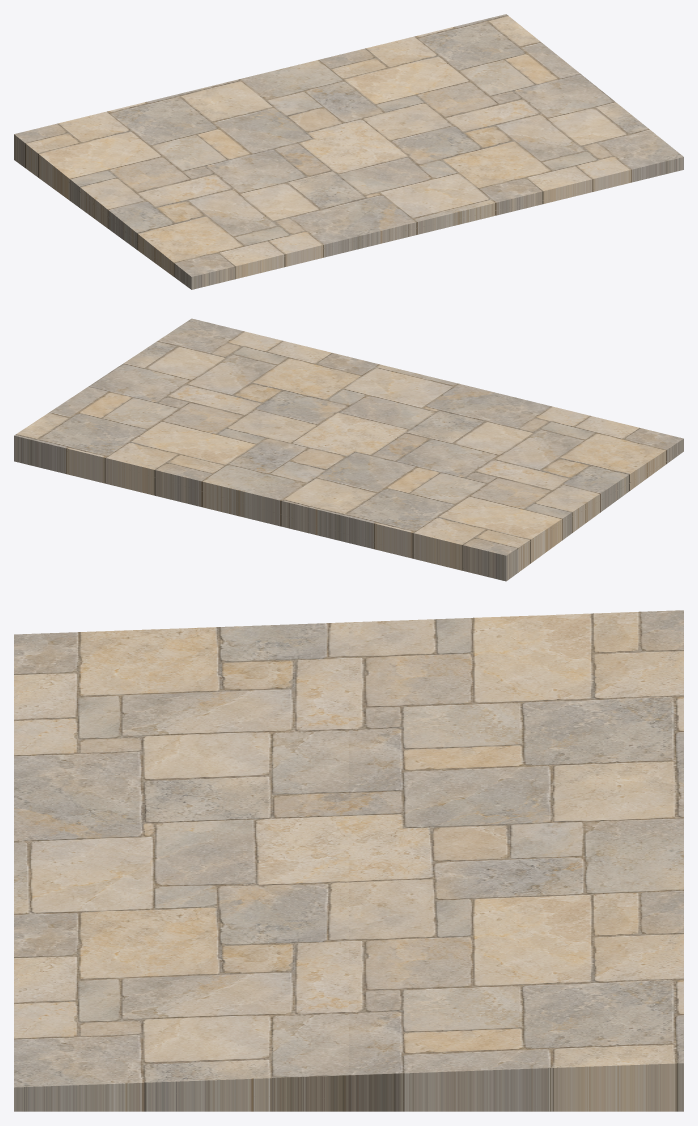
Rendered from ramp-3p2x2.glb.
3 renders of one model, top to bottom at view 1: azimuth 30°, elevation 25°; view 2: azimuth 150°, elevation 25°; view 3: azimuth 270°, elevation 25°, orthographic. The views are drawn at different scales.
Visible parts, largest first — view 1: ramp-3p2x2; view 2: ramp-3p2x2; view 3: ramp-3p2x2.
Part boxes in pixels (bbox=[...]): ramp-3p2x2: bbox=[14, 14, 683, 289]; ramp-3p2x2: bbox=[14, 318, 683, 581]; ramp-3p2x2: bbox=[14, 610, 683, 1111].
Size of the model in its own units: 3.2 by 0.16 by 2.
1 material, 1 textured.
